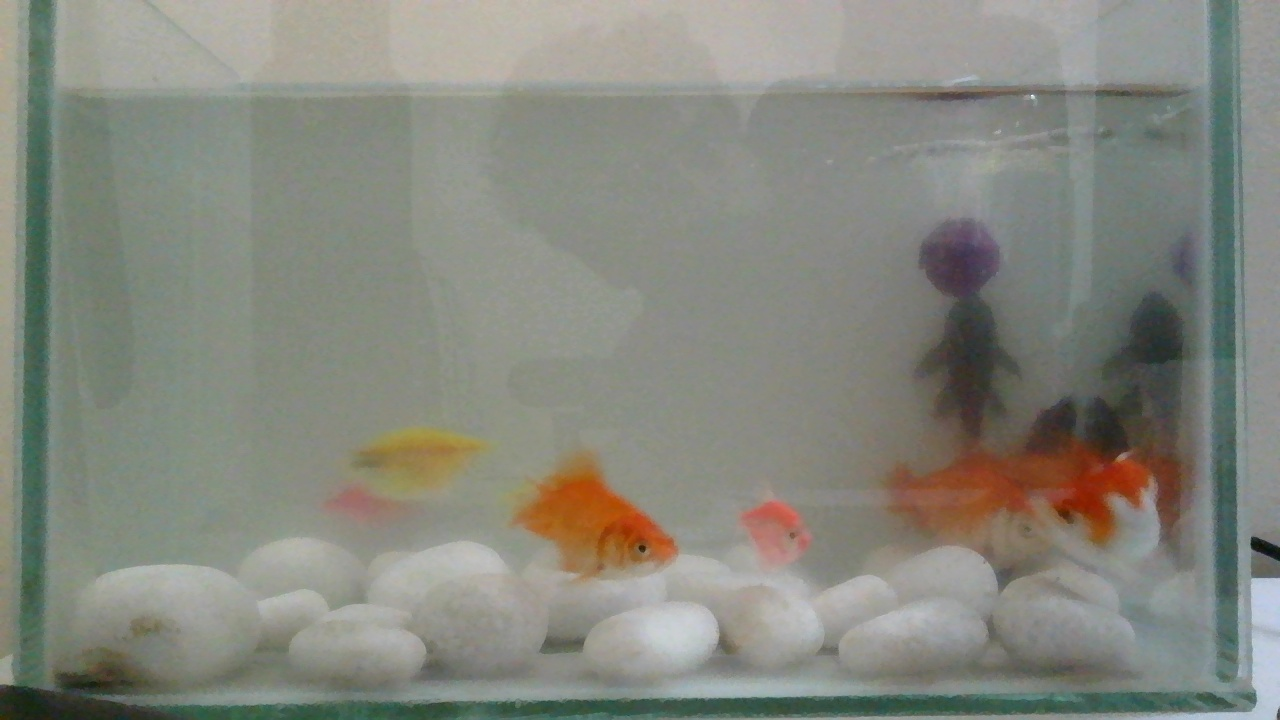fish: (511, 436, 682, 581), (323, 423, 485, 510)
